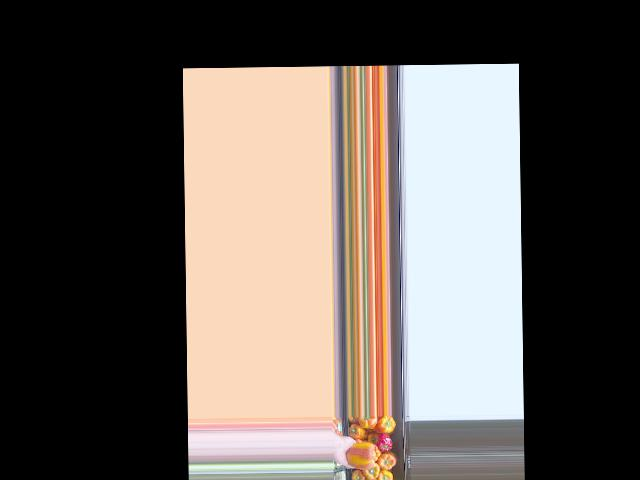bell_pepper: (350, 422, 365, 440)
